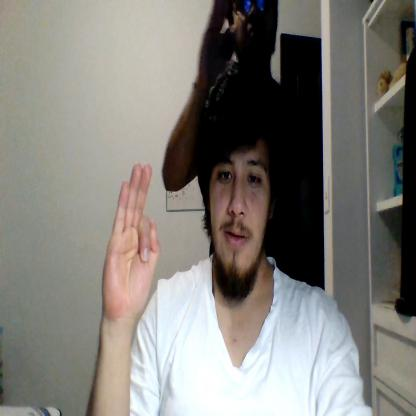F: (101, 162, 160, 320)
